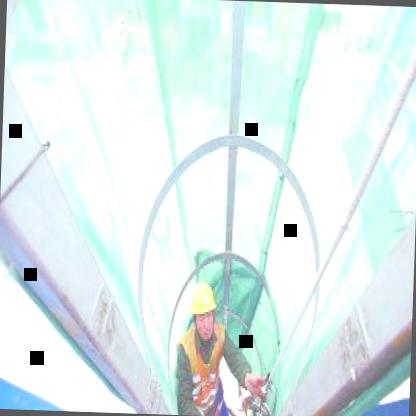helmet: (186, 273, 222, 347)
